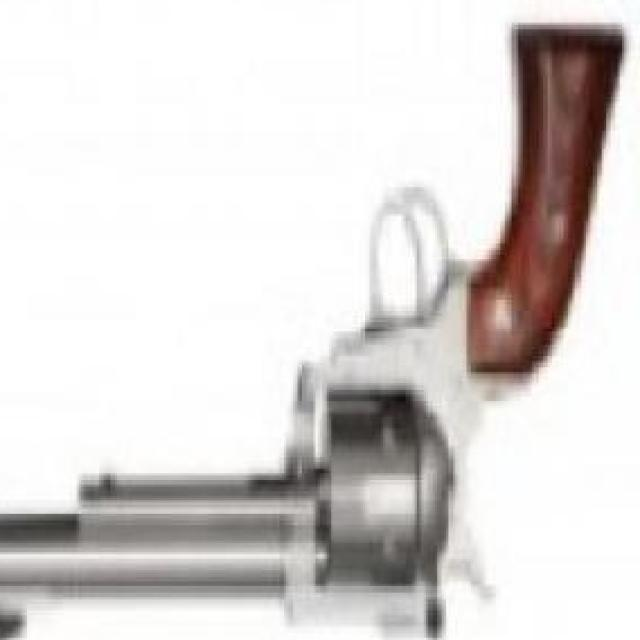pistol: (0, 41, 627, 640)
